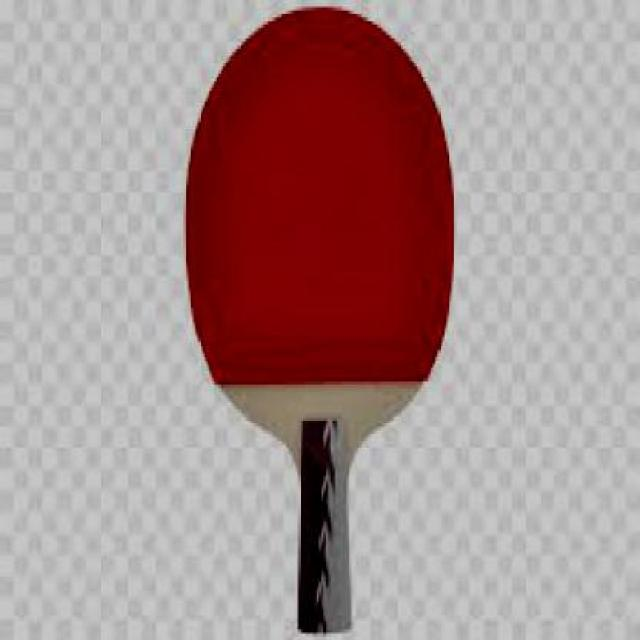table_tennis_racket: (180, 4, 458, 459)
